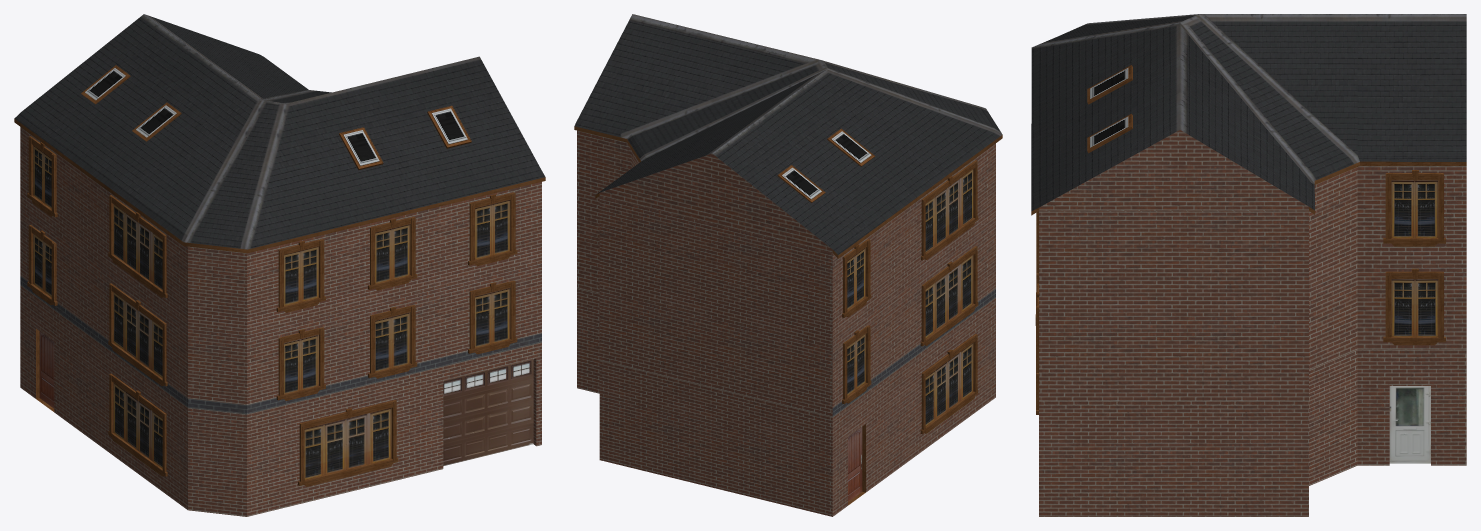
The model's file is terracedcorner3story2m.FBX.
3 views of the same model, side by side, from view 1: azimuth 30°, elevation 25°; view 2: azimuth 150°, elevation 25°; view 3: azimuth 270°, elevation 25° (orthographic). The views are drawn at different scales.
Parts seen in each view (by area): view 1: Box004; view 2: Box004; view 3: Box004.
Boxes of the visible parts, x1,y1,x2,y2 form: Box004: (14,14,545,516); Box004: (574,14,1002,516); Box004: (1031,14,1466,516).
Size of the model in its own units: 1297 by 1258 by 1280.
